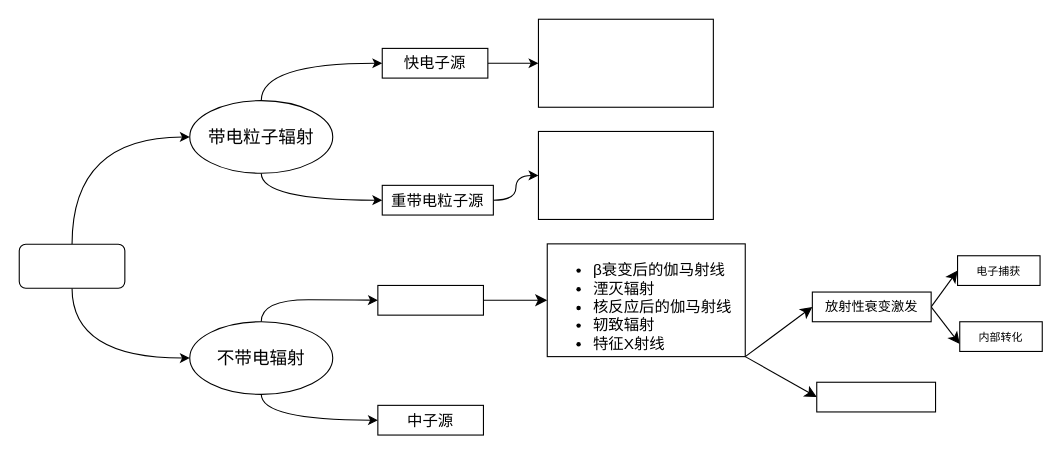
The diagram is 1062 pixels wide and 454 high, and some of its shapes have lost their labels. The centre of each missing label's shape, as x and y in pixels:
α衰变 自发裂变: [625,174]
β衰变 内转换电子源 俄歇电子: [625,62]
外部辐射激发: [876,396]
电磁辐射源: [430,299]
辐射源: [71,265]
